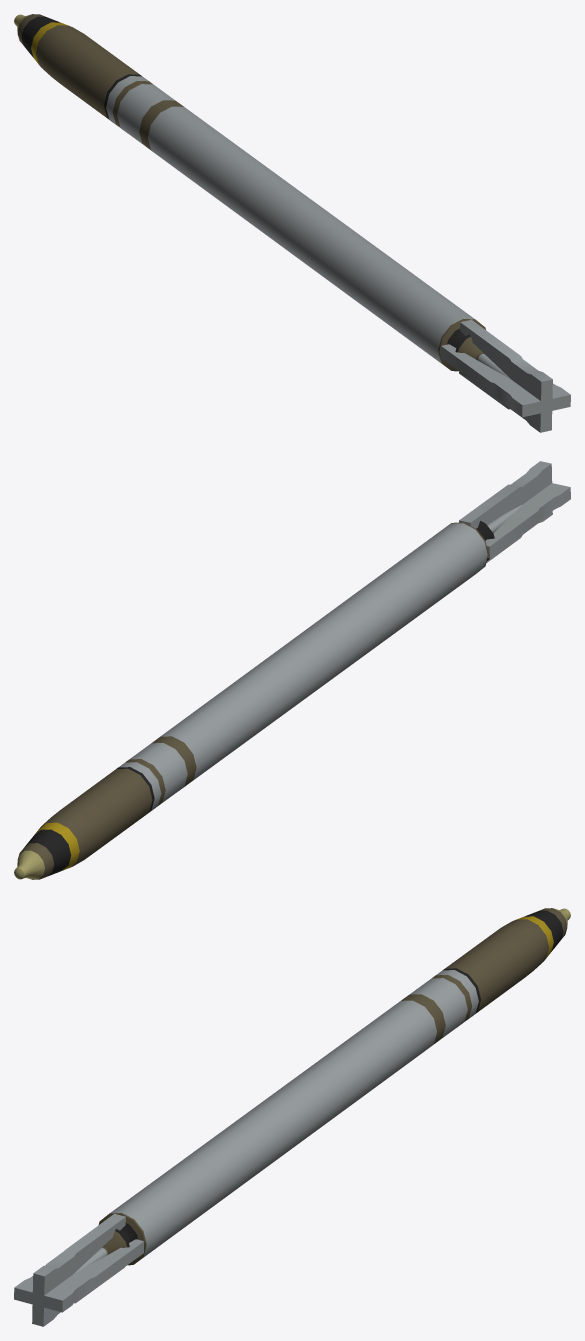
Rendered from zuni.glb.
3 views of the same model, one above another, from view 1: azimuth 30°, elevation 25°; view 2: azimuth 150°, elevation 25°; view 3: azimuth 330°, elevation 25° (orthographic).
Visible parts, largest first — view 1: zuni; view 2: zuni; view 3: zuni.
Part boxes in pixels (x1,y1,x2,y2): zuni: [14, 14, 570, 432]; zuni: [14, 461, 570, 879]; zuni: [14, 908, 570, 1326].
Bounding box in the file's own units: 0.1351 × 0.1351 × 2.49.
